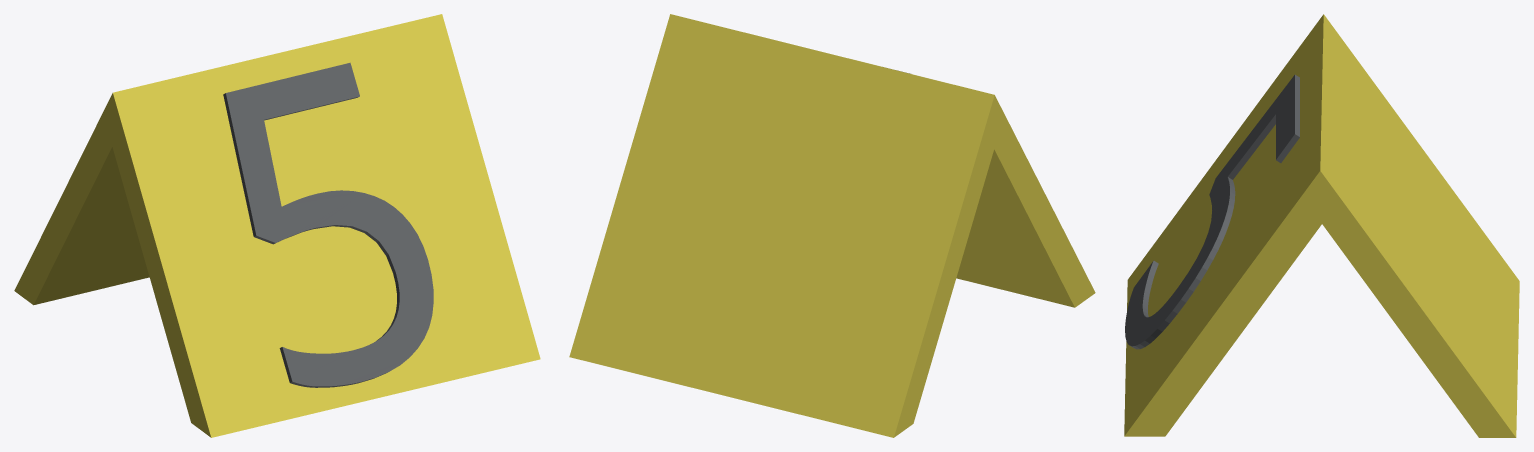
The model's file is bord5.gltf.
3 views of the same model, side by side, from view 1: azimuth 30°, elevation 25°; view 2: azimuth 150°, elevation 25°; view 3: azimuth 270°, elevation 25° (orthographic).
Parts seen in each view (by area): view 1: Mesh_Mesh_head_geo.001_lambert2SG.001; view 2: Mesh_Mesh_head_geo.001_lambert2SG.001; view 3: Mesh_Mesh_head_geo.001_lambert2SG.001.
Boxes of the visible parts, left/top/right/bottom form: Mesh_Mesh_head_geo.001_lambert2SG.001: left=14, top=14, right=540, bottom=437; Mesh_Mesh_head_geo.001_lambert2SG.001: left=569, top=14, right=1095, bottom=437; Mesh_Mesh_head_geo.001_lambert2SG.001: left=1124, top=14, right=1519, bottom=437.
Size of the model in its own units: 19.09 by 15 by 20.17.
